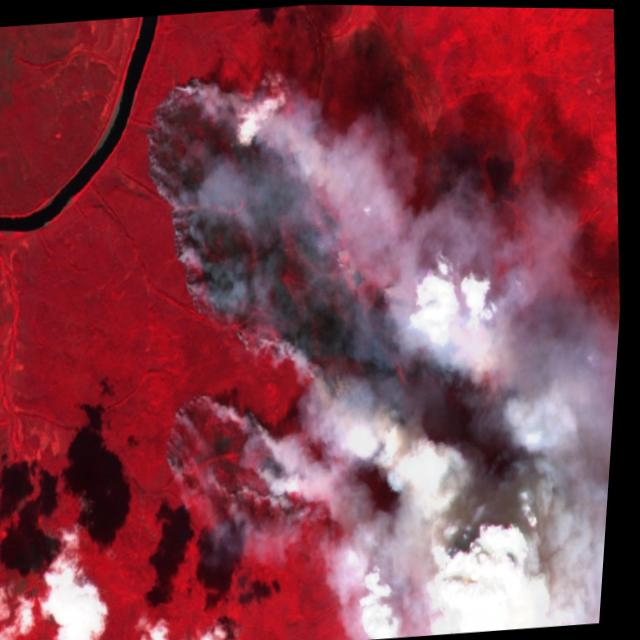fire: (120, 49, 493, 540)
